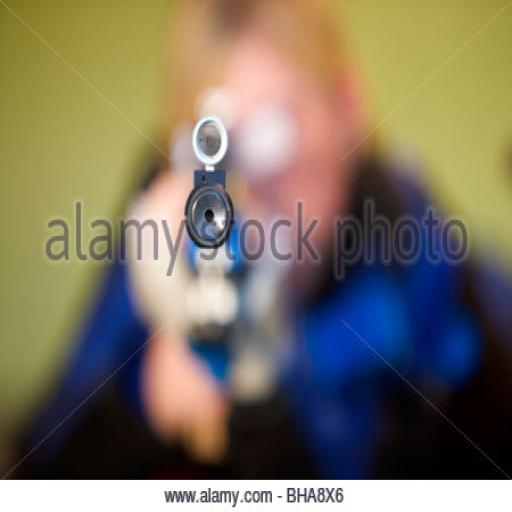shooting: (9, 13, 512, 473)
